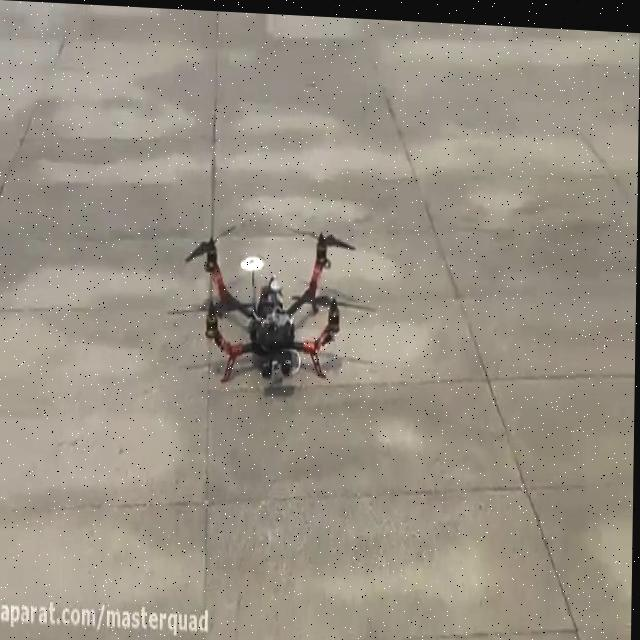drone: (166, 211, 380, 391)
